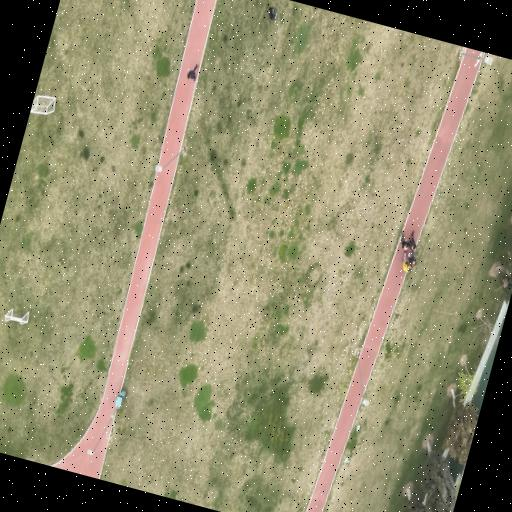person: (402, 251, 410, 271), (187, 64, 197, 79), (407, 251, 416, 267), (408, 230, 415, 250), (400, 232, 407, 249), (267, 6, 276, 19)
